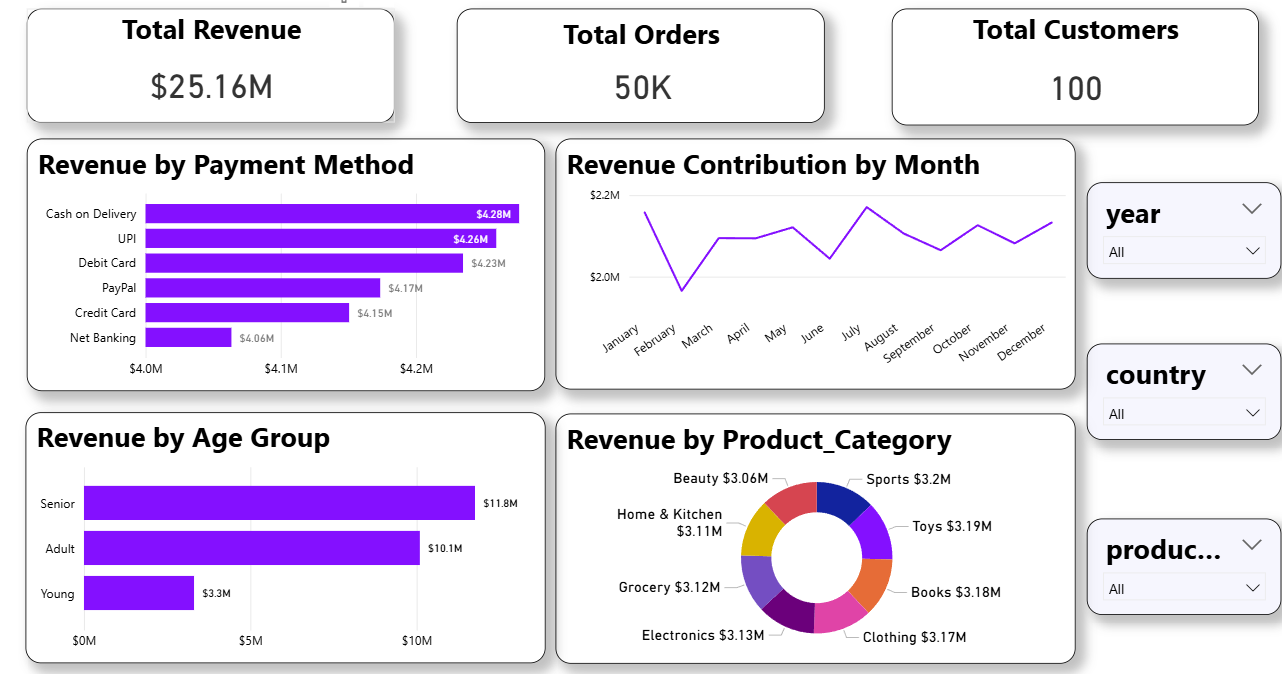

The dashboard page shown, as its layout file describes it:
{"tool":"powerbi","page":{"name":"Business Overview”","canvas":[1280,720],"ordinal":0},"visuals":[{"type":"card","title":"Total Revenue","fields":{"Values":["public ecommerce.Total Revenue"]},"box":[37.3,26.5,360.2,112],"z":0},{"type":"card","title":"Total Orders","fields":{"Values":["public ecommerce.Total Orders"]},"box":[459,26.5,360.2,112],"z":1000},{"type":"card","title":"Total Customers","fields":{"Values":["public ecommerce.Total Customers"]},"box":[884.3,26.5,359,114.5],"z":2000},{"type":"lineChart","title":"Revenue Contribution by Month","fields":{"Y":["public ecommerce.Total Revenue"],"Category":["public ecommerce.transaction_date.Variation.Date Hierarchy.Year","public ecommerce.transaction_date.Variation.Date Hierarchy.Month"]},"box":[564.9,156.5,508.7,245.8],"z":3000},{"type":"clusteredBarChart","title":"Revenue by Payment Method","fields":{"Category":["public ecommerce.payment_method"],"Y":["public ecommerce.Total Revenue"]},"box":[37.9,154.1,507.5,247],"z":4000},{"type":"barChart","title":"Revenue by Age Group","fields":{"Category":["public ecommerce.age_group"],"Y":["public ecommerce.Total Revenue"]},"box":[36.7,421.9,508.7,245.8],"z":5000},{"type":"donutChart","title":"Revenue by Product_Category","fields":{"Category":["public ecommerce.product_category"],"Y":["public ecommerce.Total Revenue"]},"box":[555.2,423.1,508.7,244.6],"z":6000},{"type":"slicer","fields":{"Values":["public ecommerce.year"]},"box":[1074.9,196.9,190.8,94.2],"z":7000},{"type":"slicer","fields":{"Values":["public ecommerce.country"]},"box":[1074.9,354.6,190.8,94.2],"z":8000},{"type":"slicer","fields":{"Values":["public ecommerce.product_category"]},"box":[1074.9,525.8,190.8,94.2],"z":9000}]}

Visuals, with their boxes on the page's 1280x720 design canvas (x1, y1, x2, y2). These are canvas units, not pixel positions in the 1282x674 screenshot, which may show the page scaled, cropped or inside an application window:
"Total Revenue" card: pyautogui.locateOnScreen(37, 26, 398, 138)
"Total Orders" card: pyautogui.locateOnScreen(459, 26, 819, 138)
"Total Customers" card: pyautogui.locateOnScreen(884, 26, 1243, 141)
"Revenue Contribution by Month" lineChart: pyautogui.locateOnScreen(565, 156, 1074, 402)
"Revenue by Payment Method" clusteredBarChart: pyautogui.locateOnScreen(38, 154, 545, 401)
"Revenue by Age Group" barChart: pyautogui.locateOnScreen(37, 422, 545, 668)
"Revenue by Product_Category" donutChart: pyautogui.locateOnScreen(555, 423, 1064, 668)
slicer - public ecommerce.year: pyautogui.locateOnScreen(1075, 197, 1266, 291)
slicer - public ecommerce.country: pyautogui.locateOnScreen(1075, 355, 1266, 449)
slicer - public ecommerce.product_category: pyautogui.locateOnScreen(1075, 526, 1266, 620)
